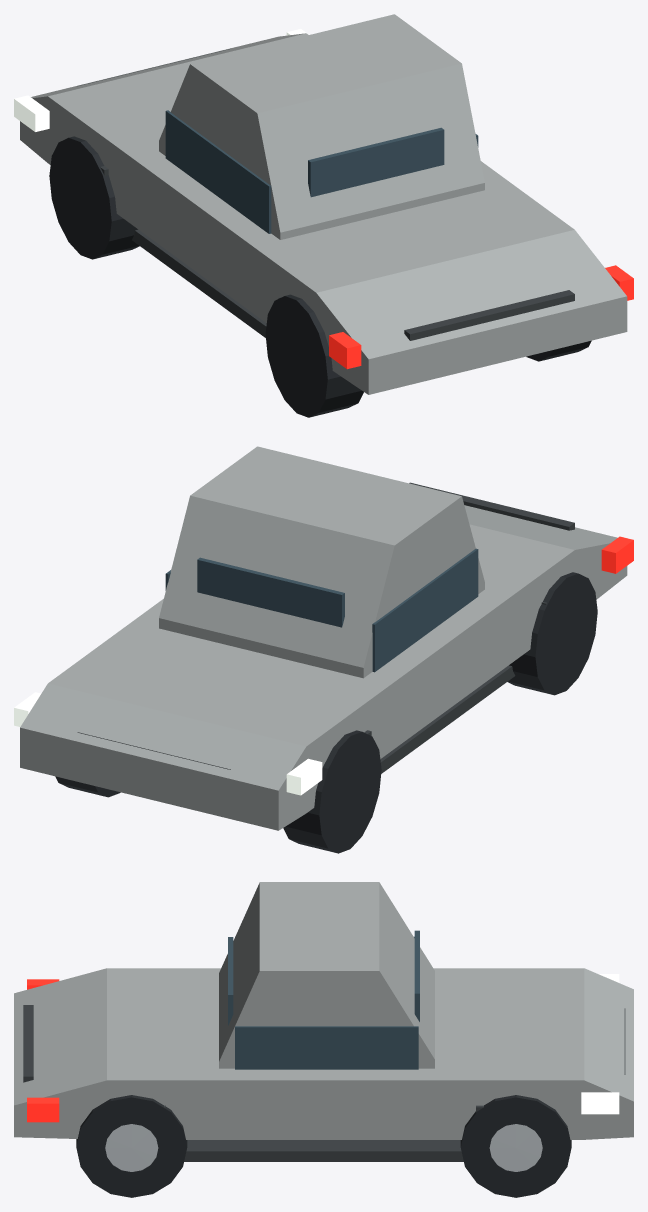
Rendered from hyundai-tucson-2.0.glb.
The picture shows the model from 3 angles, top to bottom: view 1: azimuth 30°, elevation 25°; view 2: azimuth 150°, elevation 25°; view 3: azimuth 270°, elevation 25°; orthographic projection. The views are drawn at different scales.
Visible parts, largest first — view 1: hyundai-tucson-2.0 illustrative model; view 2: hyundai-tucson-2.0 illustrative model; view 3: hyundai-tucson-2.0 illustrative model.
Part boxes in pixels (bbox=[...]): hyundai-tucson-2.0 illustrative model: bbox=[14, 14, 633, 417]; hyundai-tucson-2.0 illustrative model: bbox=[14, 446, 633, 853]; hyundai-tucson-2.0 illustrative model: bbox=[14, 882, 633, 1197].
Bounding box in the file's own units: 2.02 × 1.61 × 4.25.
